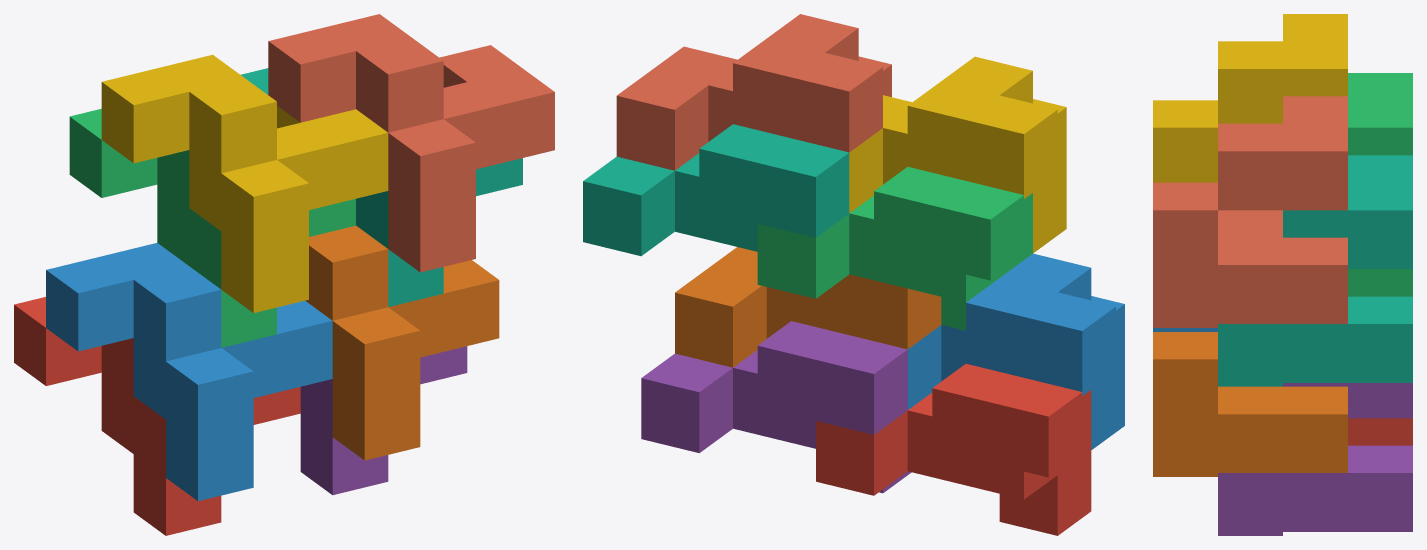
File: tiling.obj
3 views of the same model, side by side, from view 1: azimuth 30°, elevation 25°; view 2: azimuth 150°, elevation 25°; view 3: azimuth 270°, elevation 25° (orthographic). The views are drawn at different scales.
Parts seen in each view (by area): view 1: copy_1_domain_4, copy_1_domain_8, copy_1_domain_2, copy_1_domain_6, copy_1_domain_1, copy_1_domain_3, copy_1_domain_5, copy_1_domain_7; view 2: copy_1_domain_1, copy_1_domain_8, copy_1_domain_3, copy_1_domain_5, copy_1_domain_7, copy_1_domain_4, copy_1_domain_2, copy_1_domain_6; view 3: copy_1_domain_8, copy_1_domain_7, copy_1_domain_6, copy_1_domain_4, copy_1_domain_5, copy_1_domain_3, copy_1_domain_1.
Part boxes in pixels (box(x1,y1,x2,y2)): copy_1_domain_4: box(101, 54, 388, 313); copy_1_domain_8: box(268, 14, 554, 272); copy_1_domain_2: box(46, 243, 332, 501); copy_1_domain_6: box(305, 225, 499, 460); copy_1_domain_1: box(14, 297, 300, 535); copy_1_domain_3: box(69, 108, 355, 347); copy_1_domain_5: box(300, 346, 467, 495); copy_1_domain_7: box(240, 68, 522, 306); copy_1_domain_1: box(816, 363, 1091, 535); copy_1_domain_8: box(616, 14, 891, 170); copy_1_domain_3: box(757, 167, 1032, 330); copy_1_domain_5: box(641, 321, 911, 493); copy_1_domain_7: box(583, 124, 849, 256); copy_1_domain_4: box(849, 56, 1066, 253); copy_1_domain_2: box(907, 253, 1124, 449); copy_1_domain_6: box(675, 247, 941, 367); copy_1_domain_8: box(1153, 96, 1347, 327); copy_1_domain_7: box(1218, 155, 1412, 386); copy_1_domain_6: box(1153, 332, 1347, 476); copy_1_domain_4: box(1153, 14, 1347, 182); copy_1_domain_5: box(1218, 383, 1412, 535); copy_1_domain_3: box(1348, 73, 1412, 296); copy_1_domain_1: box(1348, 418, 1412, 445).
Size of the model in its own units: 8 by 7 by 4.
